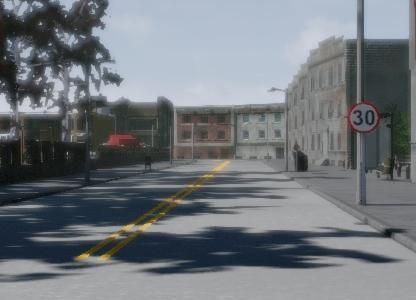Speed_30: (345, 98, 381, 135)
